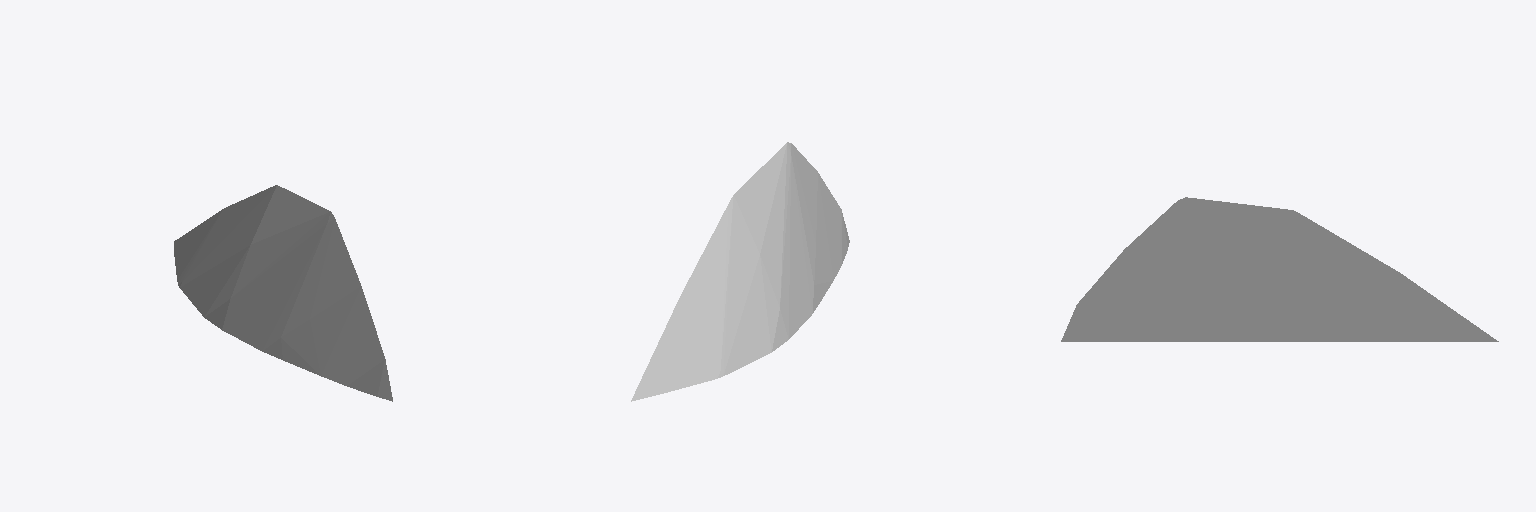
The model's file is weight_4_collision_30.obj.
The picture shows the model from 3 angles: view 1: azimuth 30°, elevation 25°; view 2: azimuth 150°, elevation 25°; view 3: azimuth 270°, elevation 25°; orthographic projection.
Size of the model in its own units: 0.0079 by 0.0195 by 0.0536.